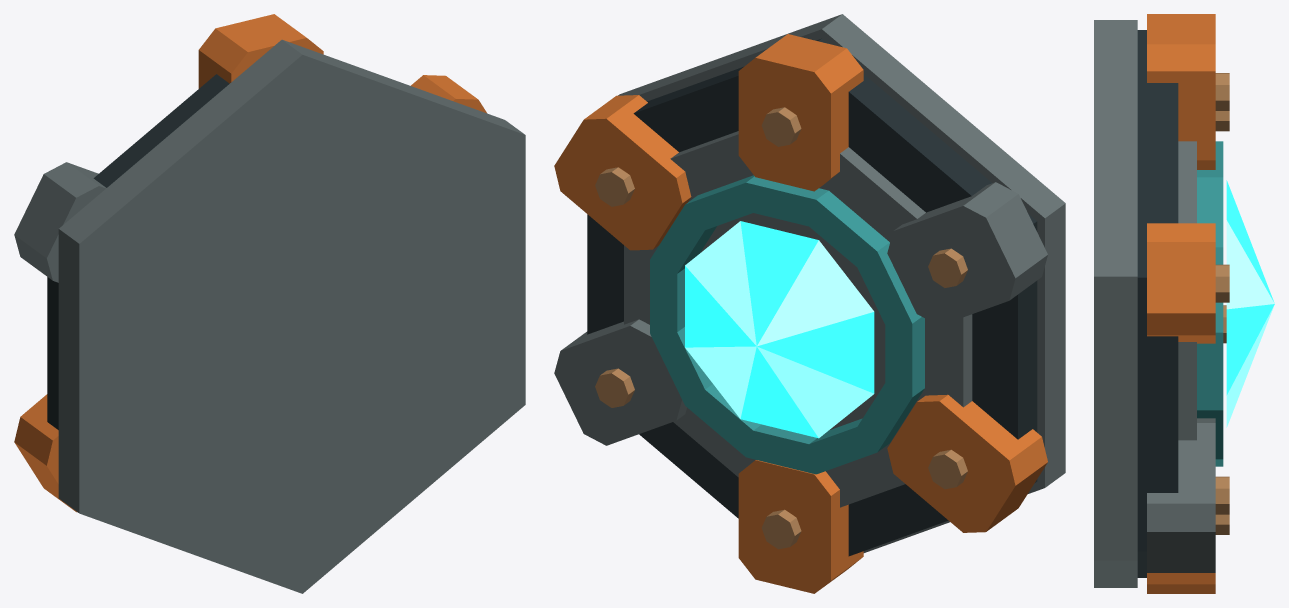
File: e8d-titans-core-relief.glb
3 renders of one model, left to right at view 1: azimuth 30°, elevation 25°; view 2: azimuth 150°, elevation 25°; view 3: azimuth 270°, elevation 25°, orthographic. The views are drawn at different scales.
Parts seen in each view (by area): view 1: Titan's Core · hex cargo relief; view 2: Titan's Core · hex cargo relief; view 3: Titan's Core · hex cargo relief.
Part boxes in pixels (left/top/right/bottom): Titan's Core · hex cargo relief: left=14, top=14, right=525, bottom=593; Titan's Core · hex cargo relief: left=554, top=14, right=1065, bottom=593; Titan's Core · hex cargo relief: left=1094, top=14, right=1274, bottom=593.
Size of the model in its own units: 0.3599 by 0.402 by 0.116.
